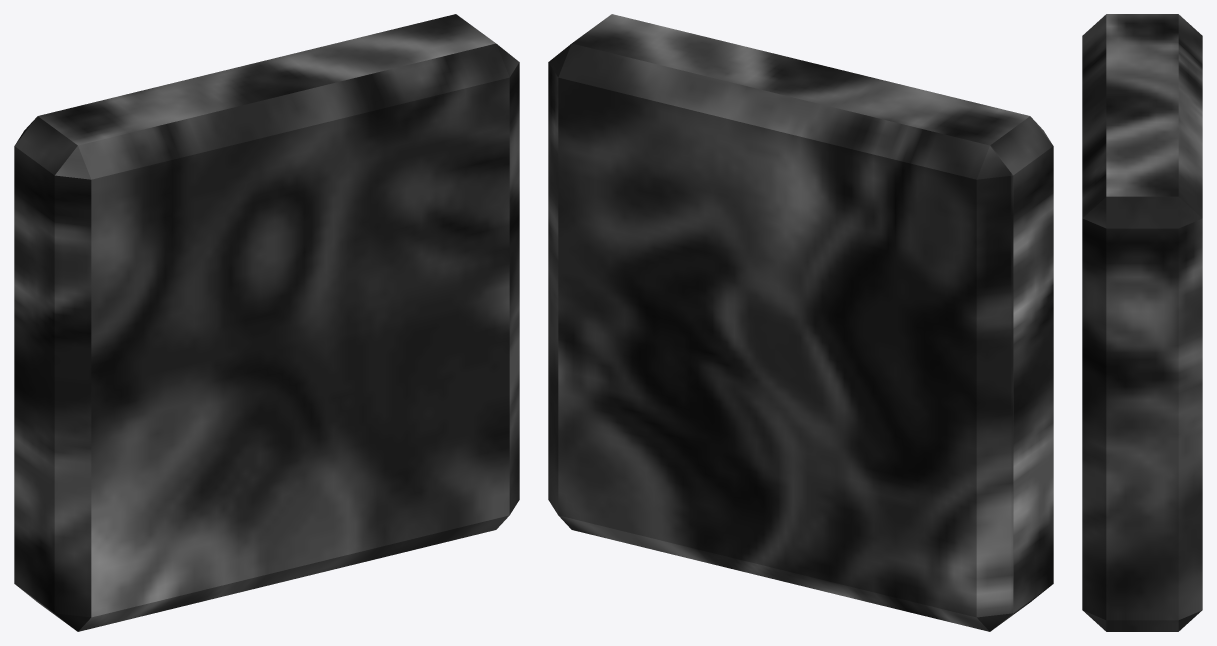
File: AssemblyBlockPartsC_bake.dae
3 renders of one model, left to right at view 1: azimuth 30°, elevation 25°; view 2: azimuth 150°, elevation 25°; view 3: azimuth 270°, elevation 25°, orthographic. The views are drawn at different scales.
Visible parts, largest first — view 1: m3; view 2: m3; view 3: m3.
Boxes of the visible parts, <box> form: m3: <box>14,14,519,631</box>; m3: <box>548,14,1053,631</box>; m3: <box>1082,14,1202,631</box>.
Bounding box in the file's own units: 400 × 400 × 100.
Materials: 5 (5 with a texture image).
